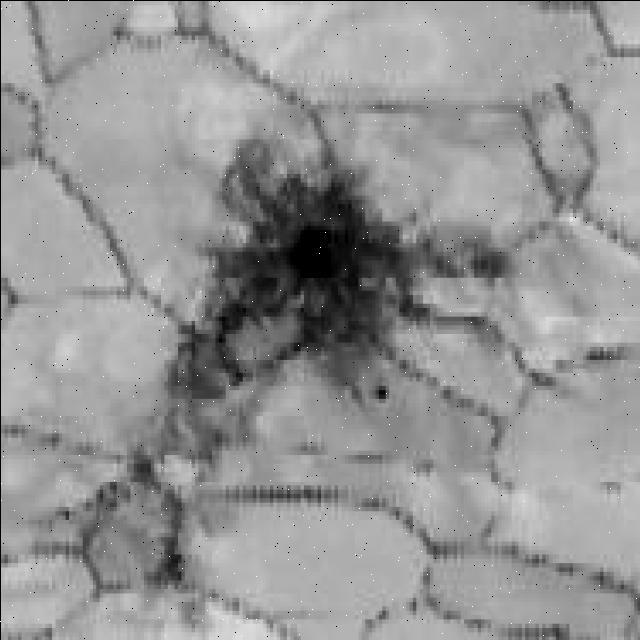good_void: (164, 136, 509, 456), (144, 537, 192, 595), (78, 471, 132, 517), (127, 446, 162, 481)
